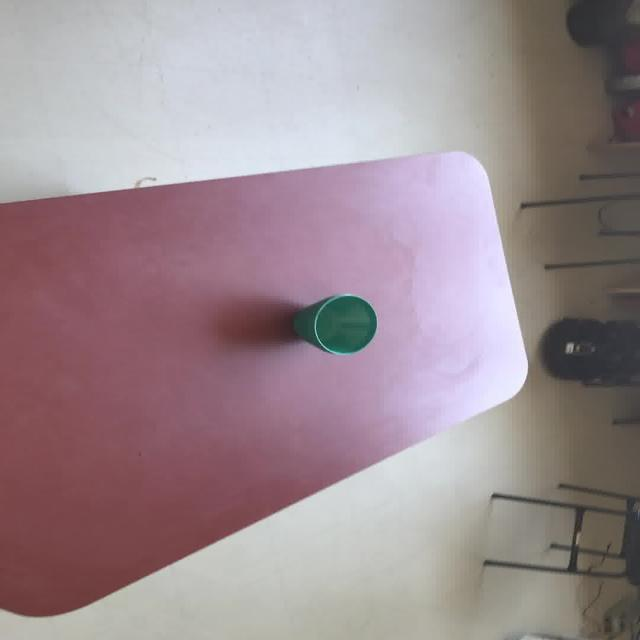bowl: (291, 292, 377, 355)
